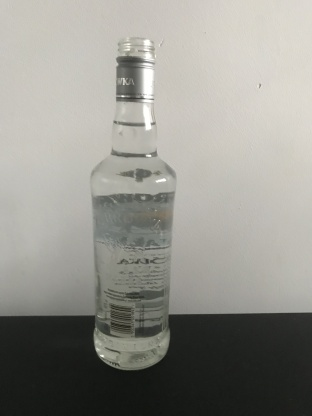nakretka: (113, 35, 157, 104)
